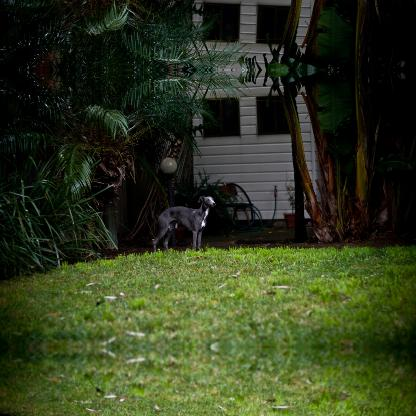Dog: (151, 196, 215, 254)
